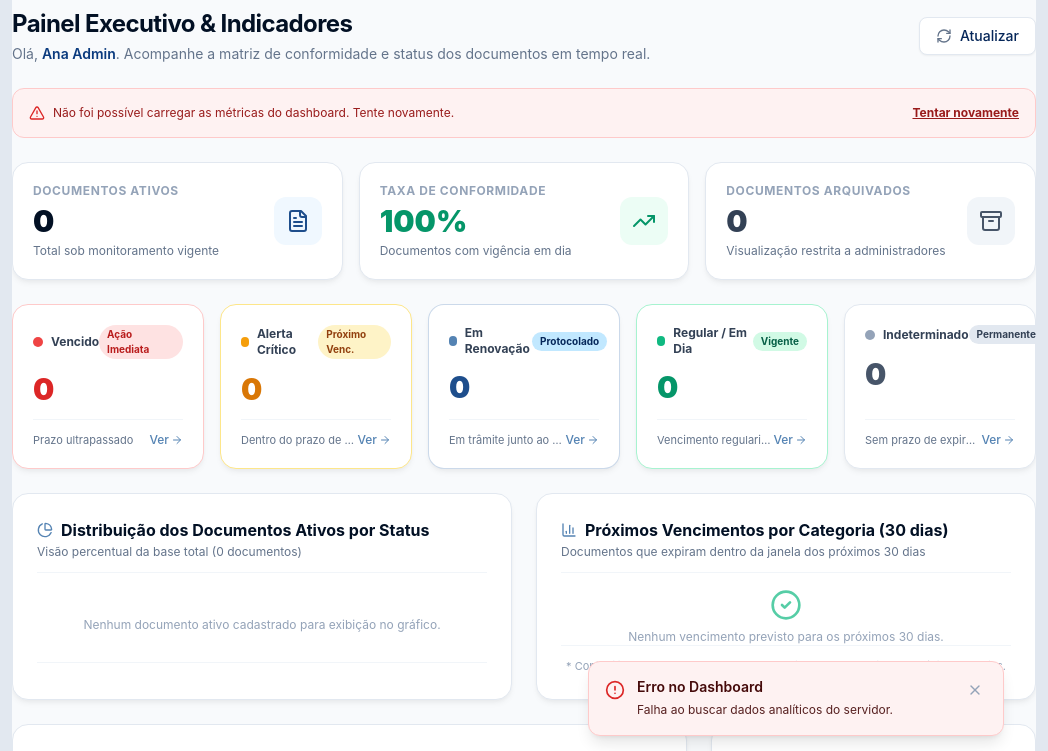
Test: Dashboard — métricas e RBAC › mostra erro recuperável e tenta GET novamente
Click the button "Tentar novamente": {"x": 966, "y": 113} [912,105,1019,121]
(page scrolled)
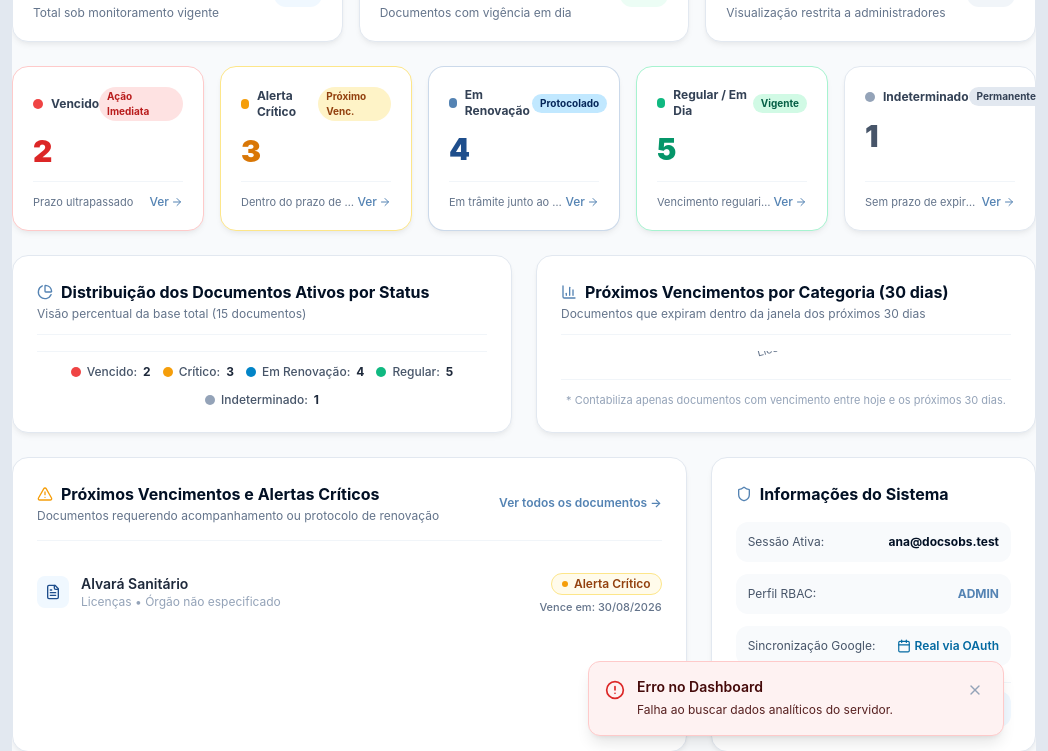
Result: the link "Alvará Sanitário" is shown at [81,575,188,592]
